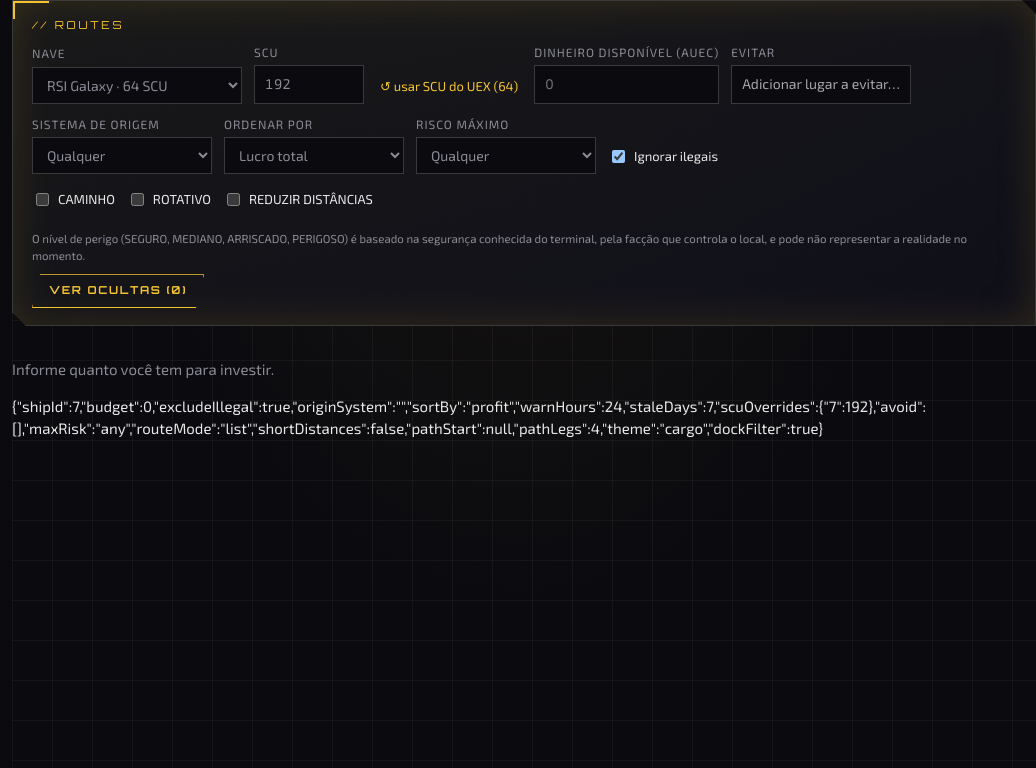
it: RouteControls › ↺ volta para o SCU do UEX
Click the button "↺ usar SCU do UEX (64)".
click(449, 86)  # box [376, 69, 522, 104]
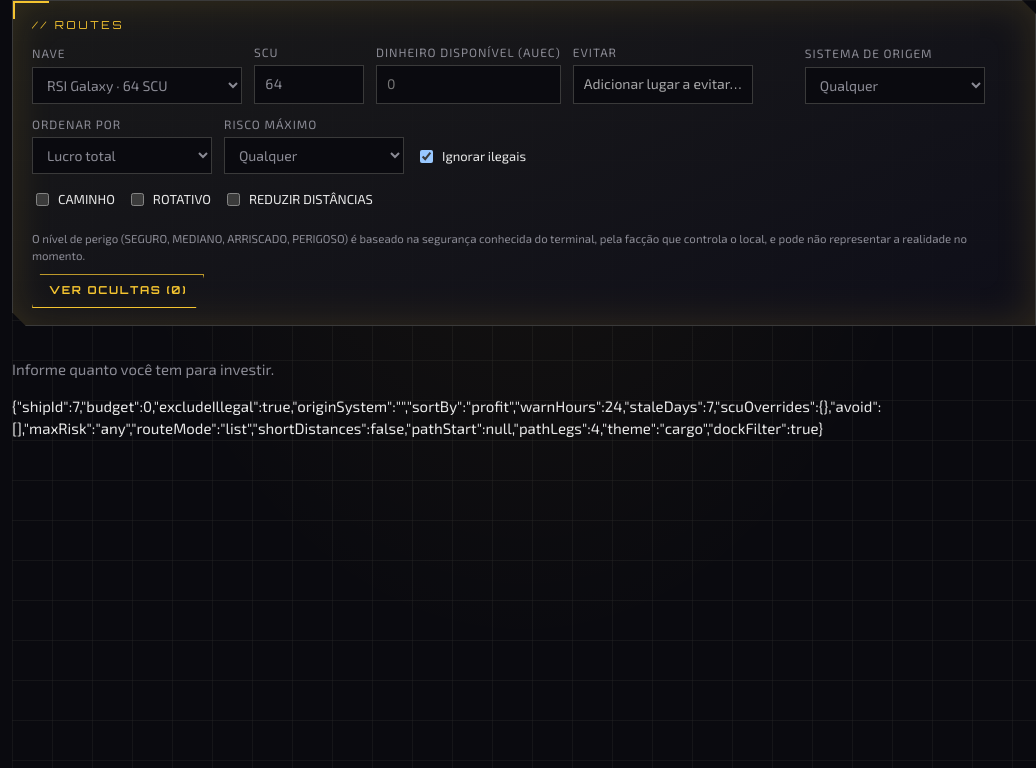
Expected: the field labelled "SCU" holds "64", [254, 65, 364, 104]
